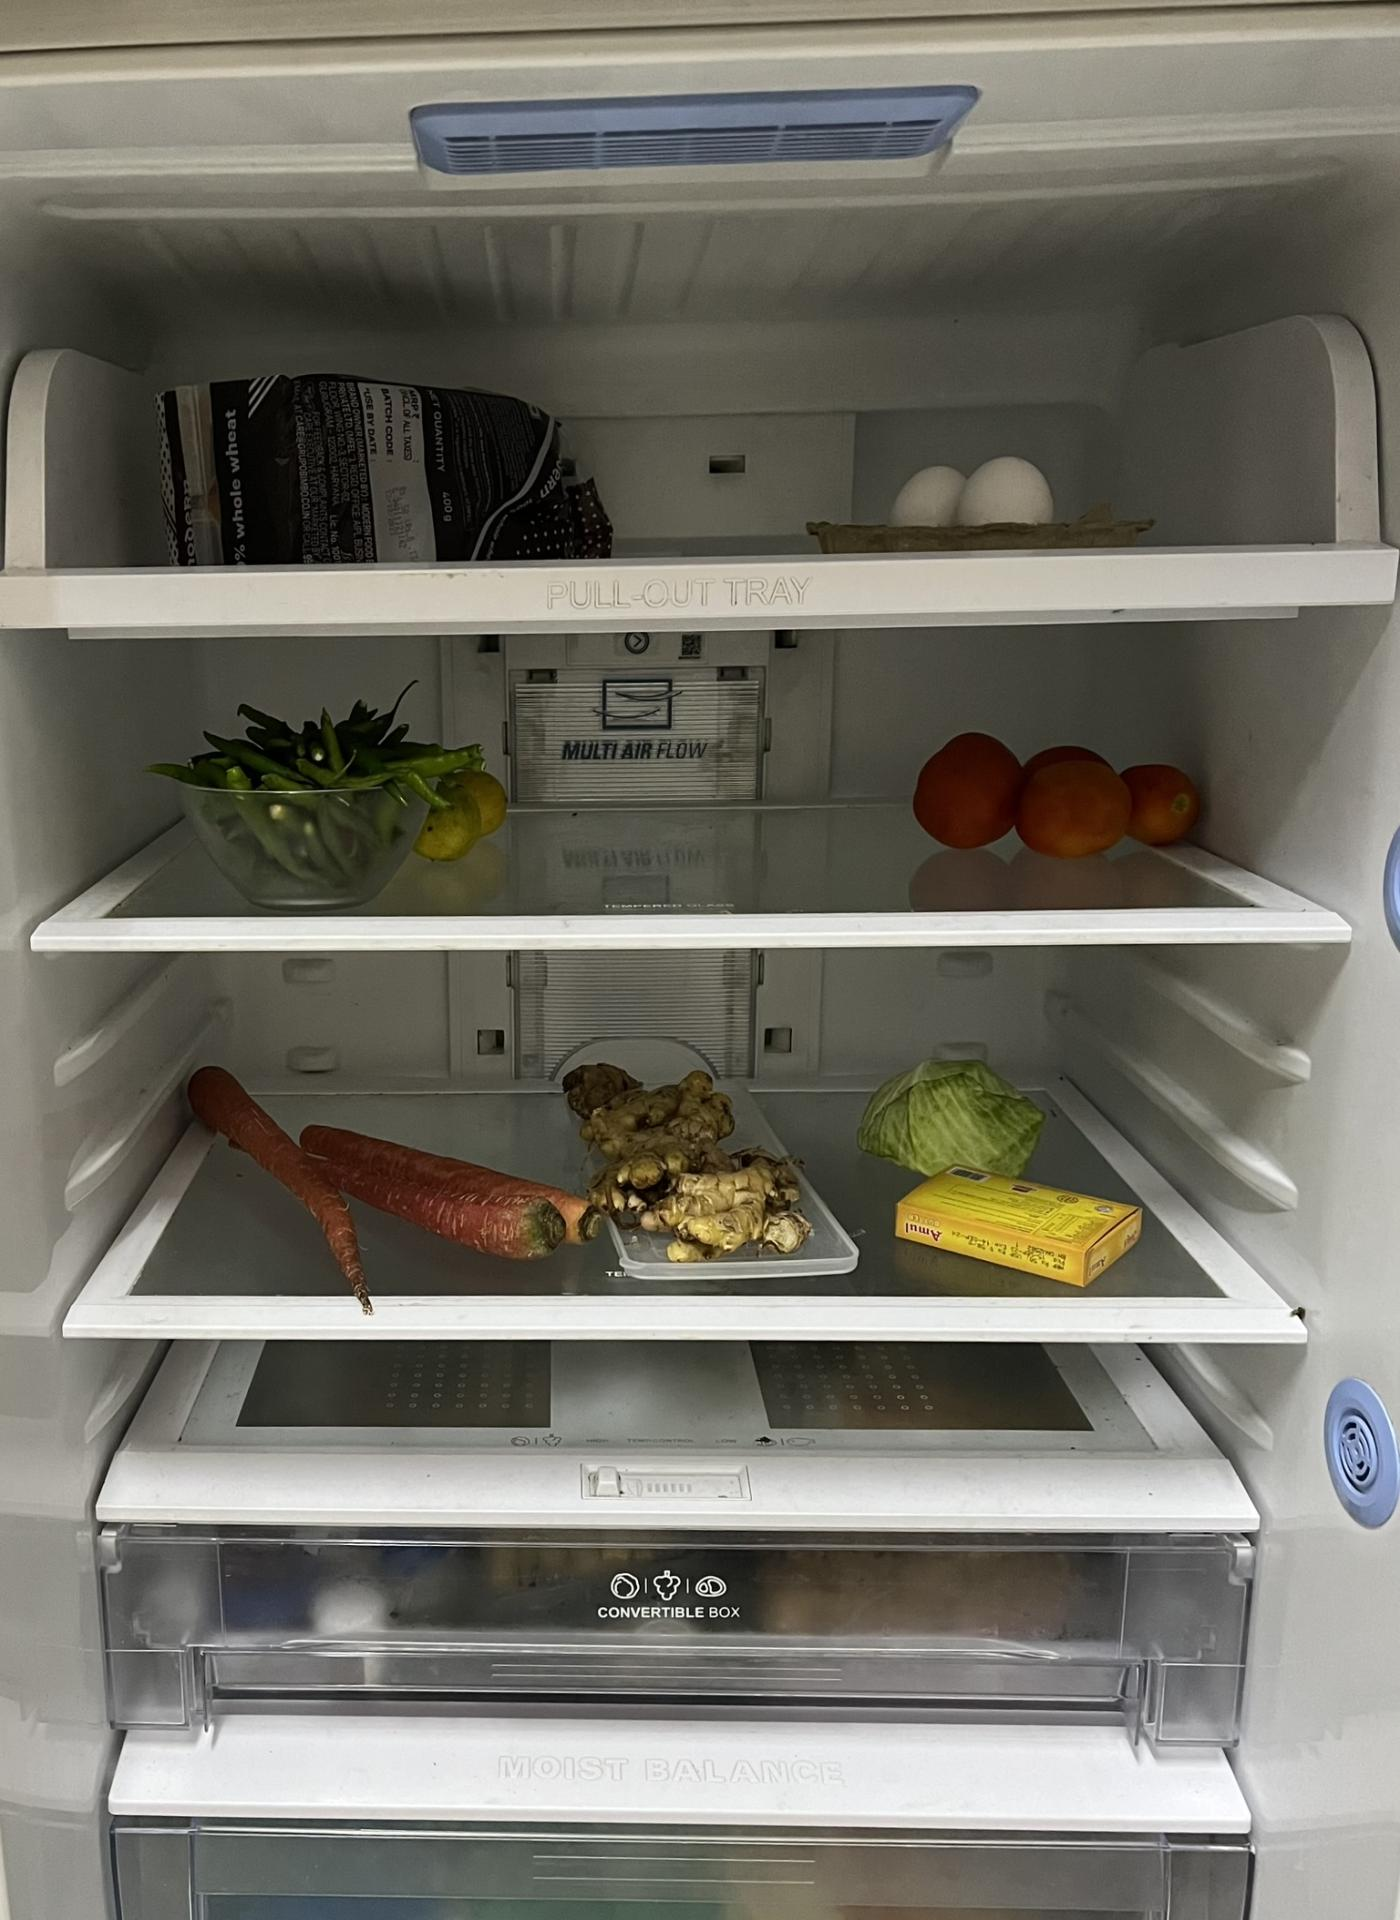bread: (154, 361, 622, 563)
butter: (890, 1175, 1144, 1291)
cabbage: (857, 1061, 1041, 1182)
carrots: (201, 1085, 605, 1270)
chillies: (179, 707, 498, 890)
egg: (901, 447, 1059, 534)
ginger: (565, 1054, 814, 1261)
lemon: (422, 765, 516, 859)
tomato: (917, 726, 1203, 854)
